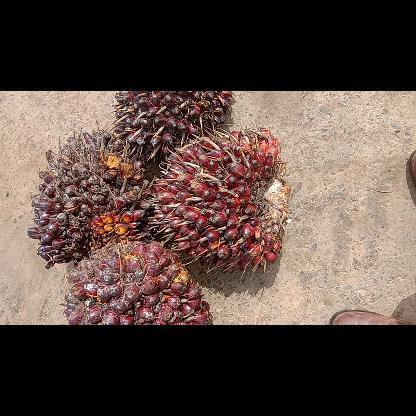Kurang masak: (147, 124, 293, 278), (26, 128, 156, 270)
TBS mentah: (58, 236, 214, 324), (107, 91, 233, 163)
